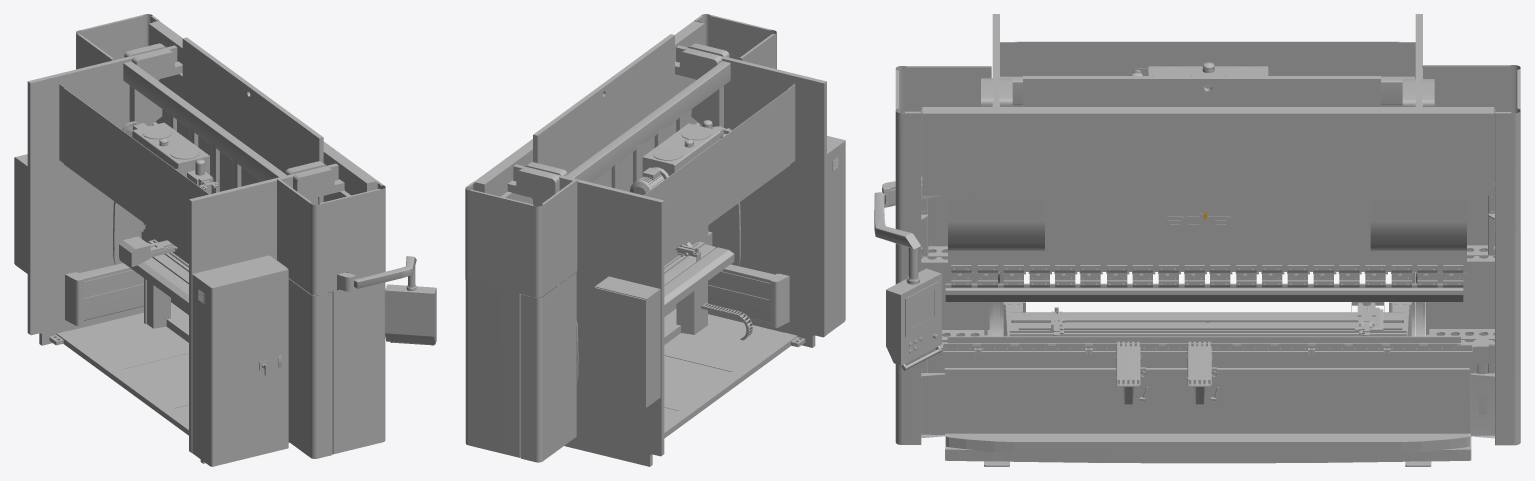
3 renders of one model, left to right at view 1: azimuth 30°, elevation 25°; view 2: azimuth 150°, elevation 25°; view 3: azimuth 270°, elevation 25°, orthographic. The views are drawn at different scales.
Visible parts, largest first — view 1: PF22040_WallStruct, PF22040_SideBox, PF22040_locker, PF22040_BackStruct, PF22040_Front, PF22040_BackGround, polySurface4, PA_PC, pasted__GH630_TopBox, polySurface15, PF22040_Box, PF22040_Cover (+6 smaller); view 2: PF22040_WallStruct, PF22040_SideBox, PF22040_BackStruct, PF22040_Front, PF22040_BackGround, PF22040_Box, PF22040_locker, polySurface4, pasted__GH630_TopBox, polySurface15, PF22040_Cover, PF22040_InsideBase (+4 smaller); view 3: PF22040_BaseStruct1, polySurface15, PF22040_Front, PF22040_SideBox, PF22040_BackStruct, PF22040_QuadStruct2, PF22040_MiddleBar, PF22040_Bar1, PA_PC, PF22040_Puncture, PF22040_WallStruct, PF22040_Cover (+10 smaller).
Boxes of the visible parts, left/top/right/bottom form: PF22040_WallStruct: left=27, top=43, right=344, bottom=463; PF22040_SideBox: left=76, top=14, right=385, bottom=458; PF22040_locker: left=192, top=255, right=288, bottom=466; PF22040_BackStruct: left=59, top=61, right=286, bottom=255; PF22040_Front: left=152, top=37, right=350, bottom=290; PF22040_BackGround: left=49, top=312, right=188, bottom=435; polySurface4: left=65, top=263, right=143, bottom=325; PA_PC: left=385, top=284, right=436, bottom=345; pasted__GH630_TopBox: left=132, top=122, right=209, bottom=193; polySurface15: left=148, top=21, right=377, bottom=195; PF22040_Box: left=14, top=154, right=27, bottom=273; PF22040_Cover: left=119, top=257, right=188, bottom=310; PF22040_WallStruct: left=507, top=43, right=826, bottom=466; PF22040_SideBox: left=465, top=14, right=776, bottom=462; PF22040_BackStruct: left=565, top=61, right=795, bottom=256; PF22040_Front: left=501, top=34, right=701, bottom=205; PF22040_BackGround: left=664, top=314, right=805, bottom=438; PF22040_Box: left=594, top=276, right=660, bottom=407; PF22040_locker: left=827, top=135, right=845, bottom=334; polySurface4: left=708, top=264, right=789, bottom=327; pasted__GH630_TopBox: left=642, top=123, right=722, bottom=175; polySurface15: left=474, top=21, right=704, bottom=196; PF22040_Cover: left=664, top=247, right=734, bottom=312; PF22040_InsideBase: left=676, top=281, right=707, bottom=334; PF22040_BaseStruct1: left=943, top=347, right=1472, bottom=466; polySurface15: left=922, top=107, right=1494, bottom=195; PF22040_Front: left=948, top=76, right=1466, bottom=271; PF22040_SideBox: left=895, top=65, right=1520, bottom=445; PF22040_BackStruct: left=1000, top=41, right=1415, bottom=106; PF22040_QuadStruct2: left=950, top=265, right=1465, bottom=287; PF22040_MiddleBar: left=945, top=283, right=1463, bottom=301; PF22040_Bar1: left=1009, top=323, right=1406, bottom=336; PA_PC: left=886, top=268, right=941, bottom=370; PF22040_Puncture: left=947, top=336, right=1460, bottom=344; PF22040_WallStruct: left=981, top=14, right=1434, bottom=336; PF22040_Cover: left=1011, top=312, right=1403, bottom=322.
Size of the model in its own units: 248 by 320 by 499.
